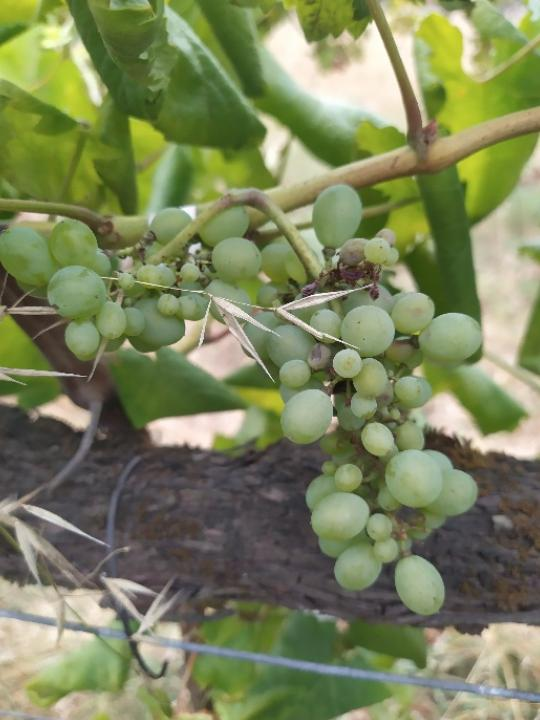grape: (0, 185, 483, 623)
